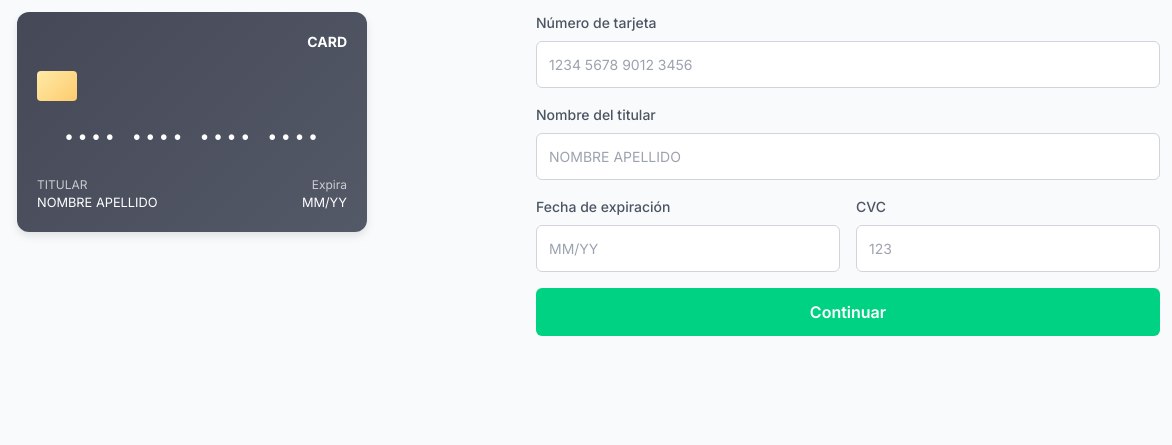
Test case: CreditCardForm › validates expiry date format
Step 1. Type "123" into the field labelled "Fecha de expiración" → point(688, 248), box [536,225,840,272]
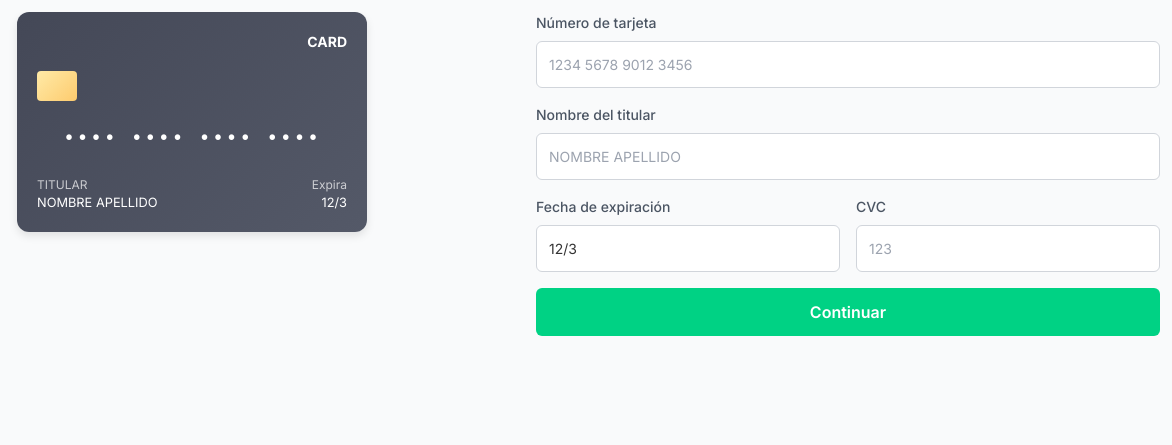
Step 2. Submit the form from the button "Continuar", box [536,288,1160,336]
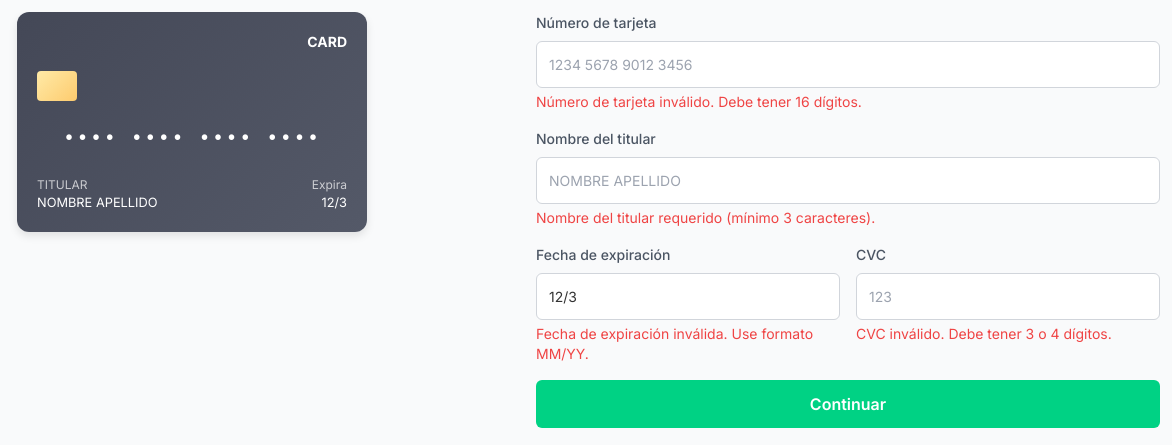
Now the text "Fecha de expiración inválida. Use formato MM/YY." is shown, box [536,324,840,364]
